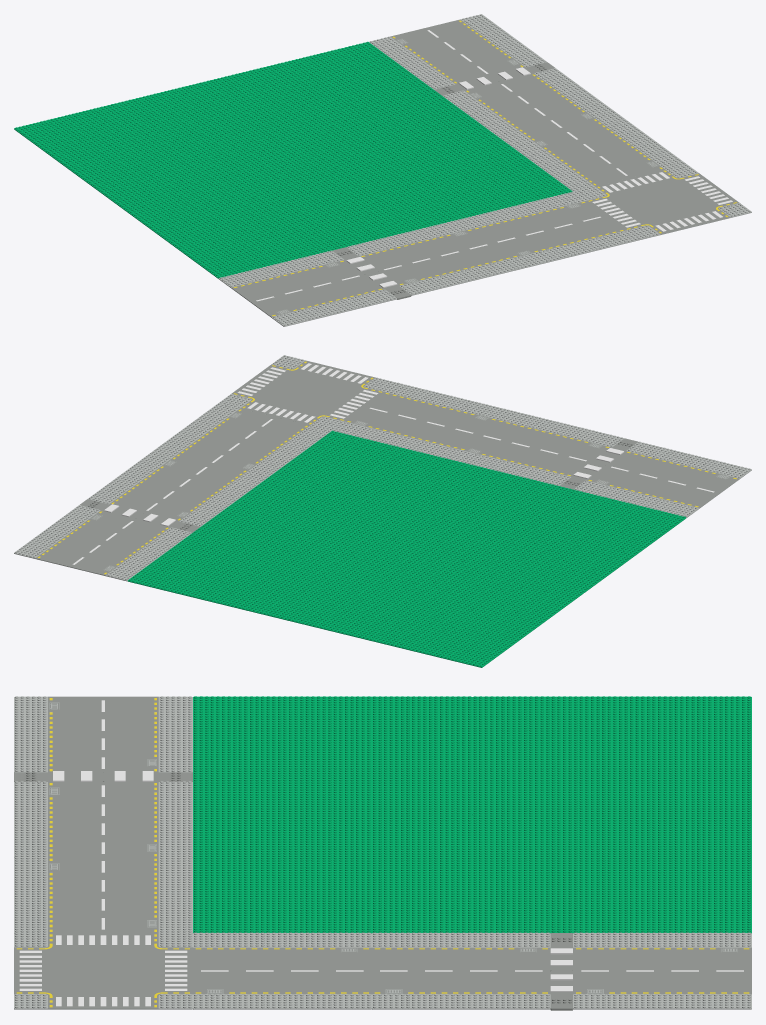
The model's file is Ground_huge(fixed).glb.
The picture shows the model from 3 angles, top to bottom: view 1: azimuth 30°, elevation 25°; view 2: azimuth 150°, elevation 25°; view 3: azimuth 270°, elevation 25°; orthographic projection. The views are drawn at different scales.
Parts seen in each view (by area): view 1: Ground_huge(fixed); view 2: Ground_huge(fixed); view 3: Ground_huge(fixed).
Part boxes in pixels (<box>): Ground_huge(fixed): <box>14,14,751,326</box>; Ground_huge(fixed): <box>14,355,751,667</box>; Ground_huge(fixed): <box>14,696,751,1010</box>.
Bounding box in the file's own units: 2640 × 13.07 × 2640.
